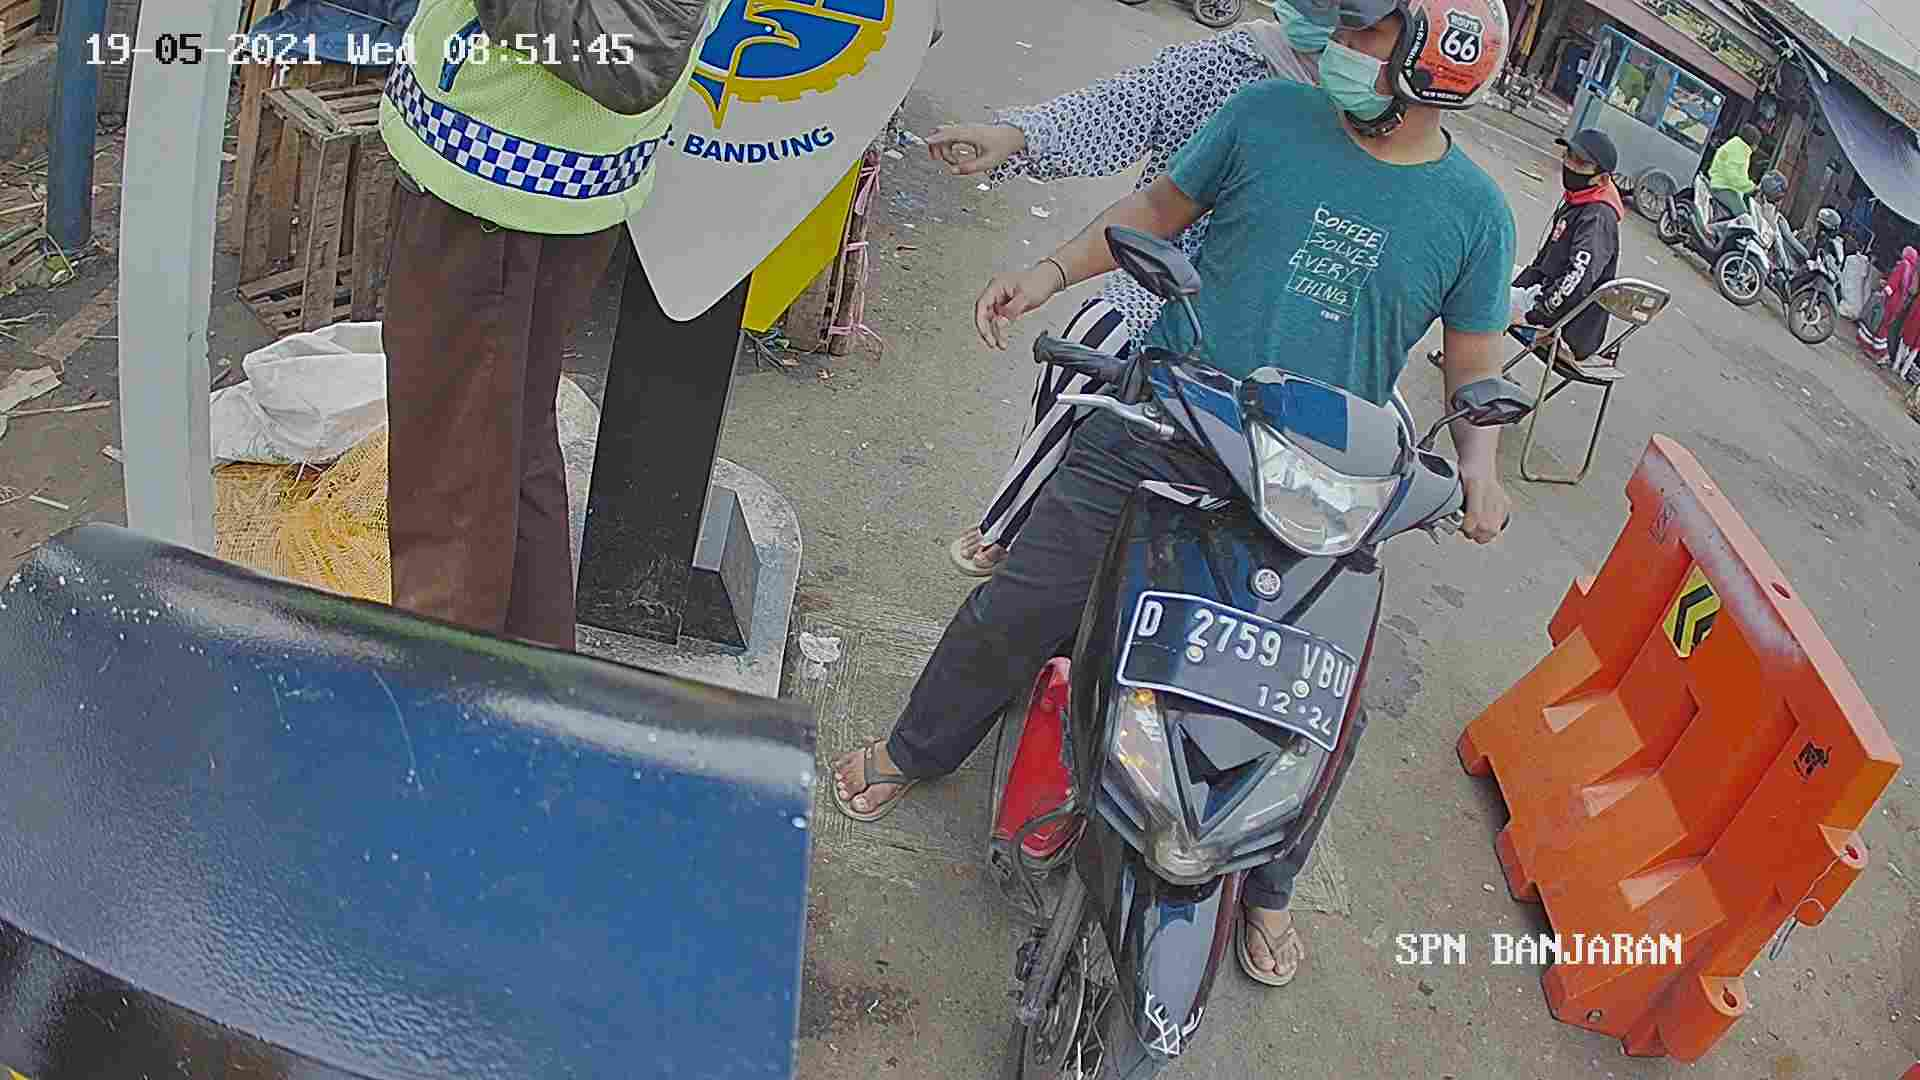motor: (942, 319, 1424, 1080)
